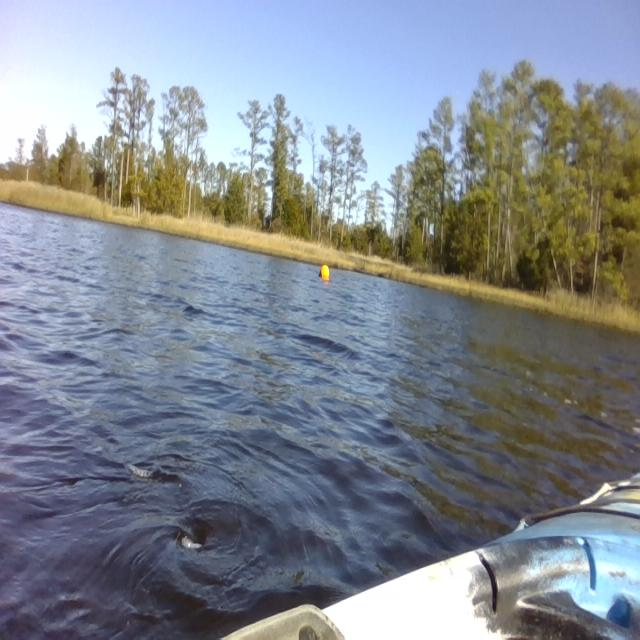Buoy: (317, 261, 331, 285)
